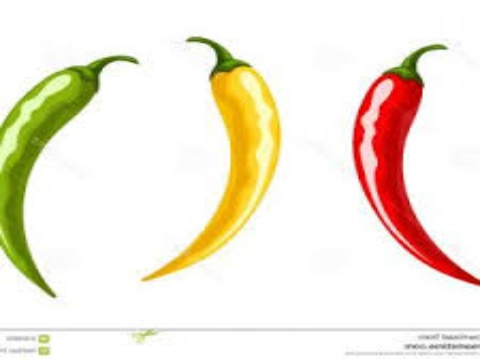Chilli: (132, 20, 292, 294), (332, 26, 480, 294)
